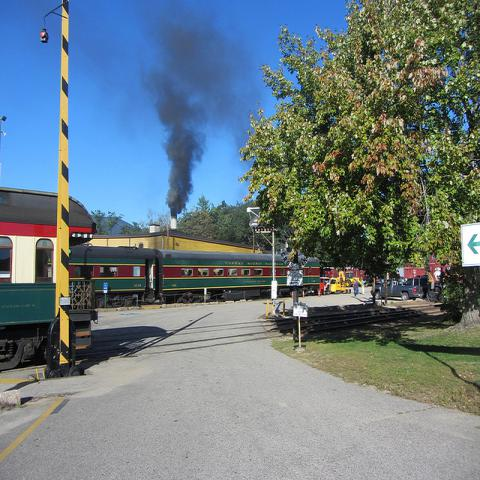car: (404, 278, 428, 295), (316, 277, 330, 297)
truck: (370, 277, 425, 302)
